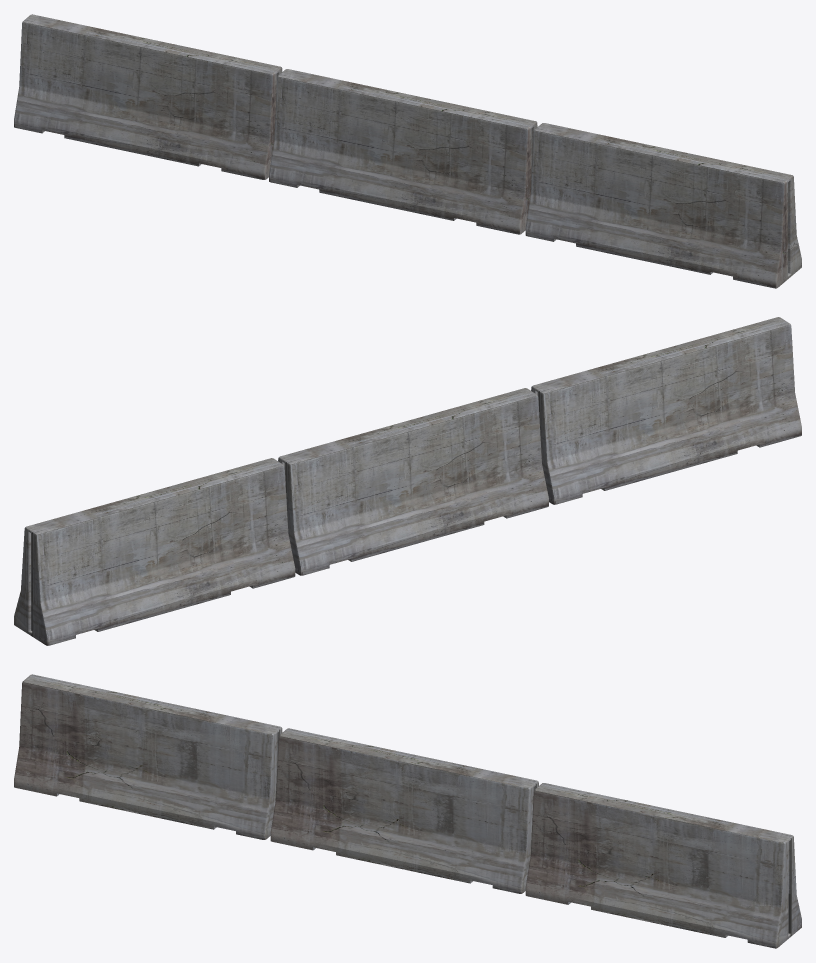
File: City_Barricade003.fbx
3 views of the same model, one above another, from view 1: azimuth 90°, elevation 25°; view 2: azimuth 150°, elevation 25°; view 3: azimuth 270°, elevation 25° (orthographic). The views are drawn at different scales.
Visible parts, largest first — view 1: City_Barricade_003:Barricade_003; view 2: City_Barricade_003:Barricade_003; view 3: City_Barricade_003:Barricade_003.
Boxes of the visible parts, x1,y1,x2,y2 form: City_Barricade_003:Barricade_003: (14, 14, 801, 288); City_Barricade_003:Barricade_003: (14, 317, 801, 645); City_Barricade_003:Barricade_003: (14, 674, 801, 948).
Size of the model in its own units: 458 by 115 by 834.
1 material, 1 textured.
